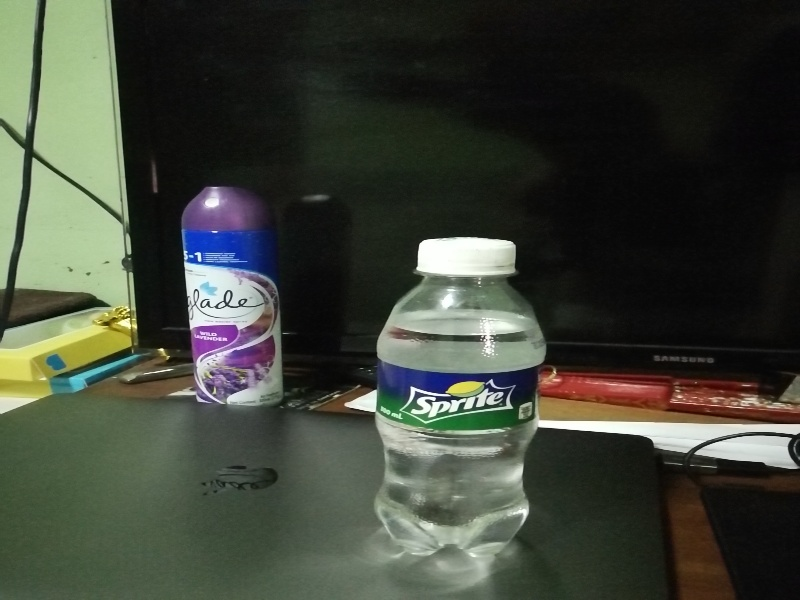PET #1: (368, 224, 547, 561)
